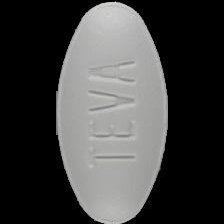42291-900: (0, 0, 224, 224)
